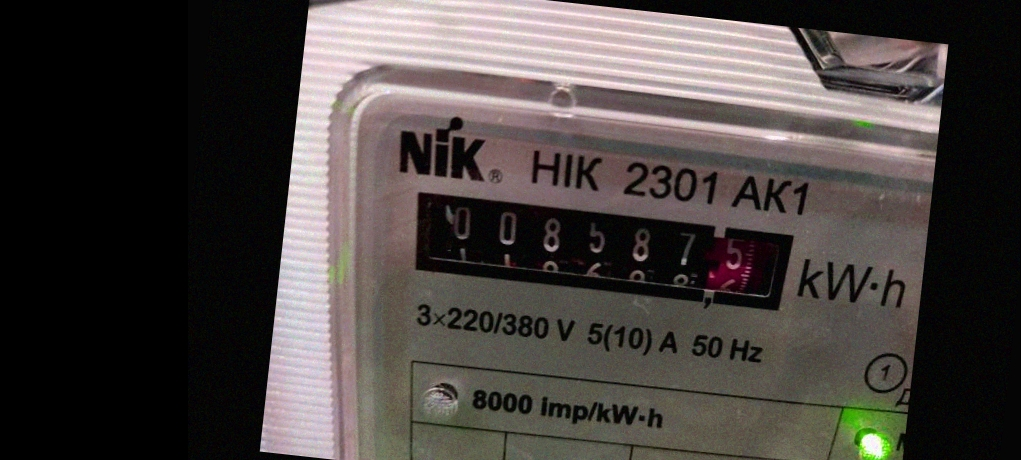0: (494, 205, 522, 248)
1: (448, 200, 476, 244)
5: (721, 232, 749, 274), (584, 216, 611, 257)
7: (672, 227, 700, 270)
8: (537, 212, 566, 256), (629, 222, 654, 265)
screen: (387, 170, 816, 334)
